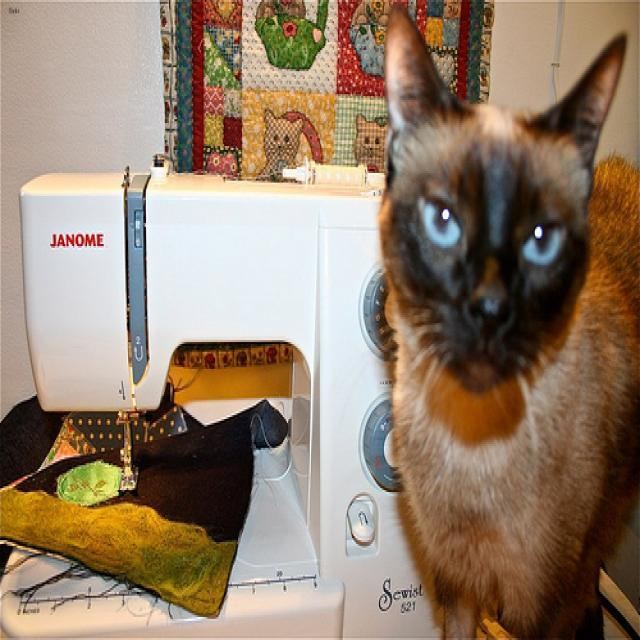Siamese: (383, 2, 625, 390)
